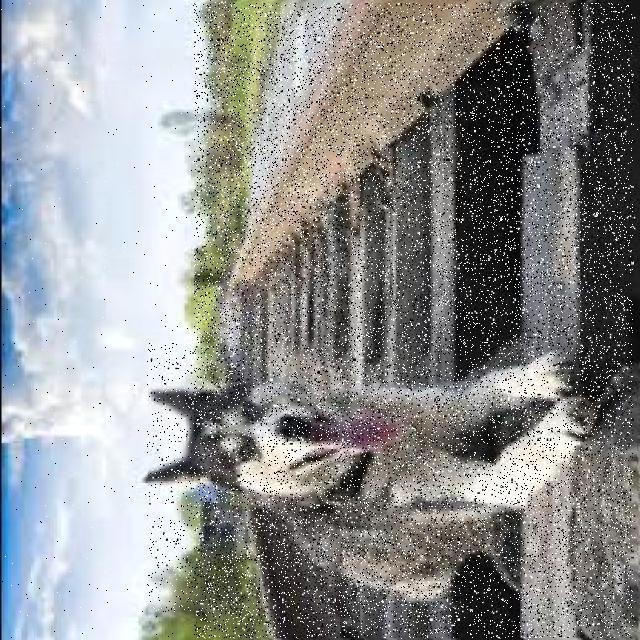rail: (196, 4, 634, 639)
